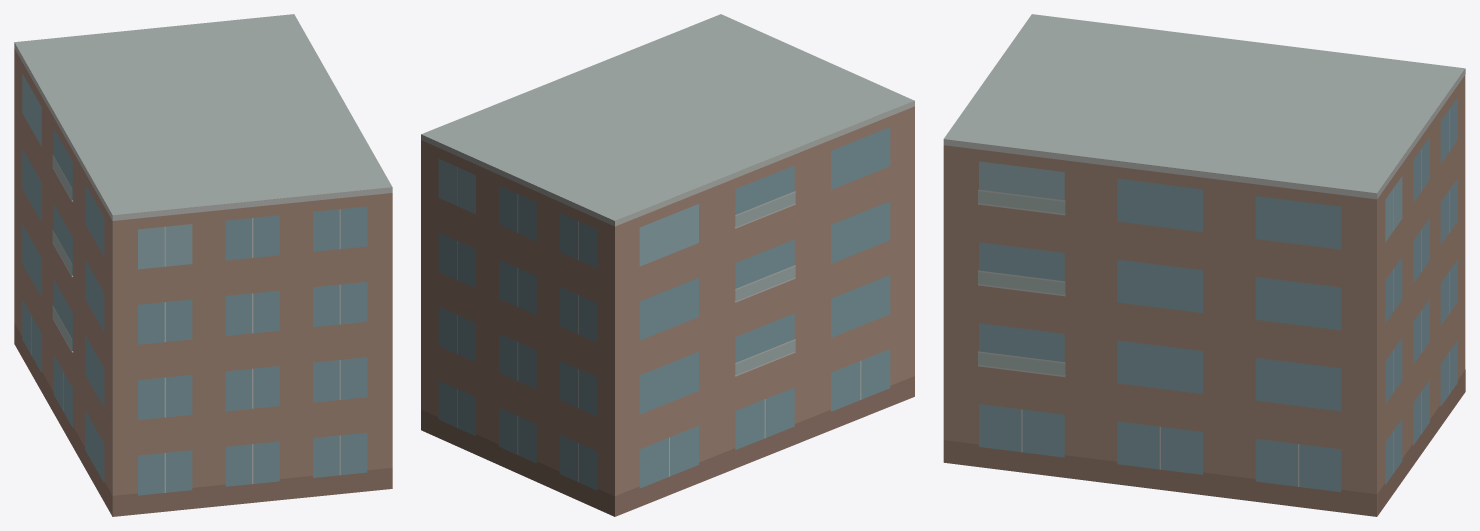
Rendered from survey-upis-32872736.glb.
3 views of the same model, side by side, from view 1: azimuth 30°, elevation 25°; view 2: azimuth 150°, elevation 25°; view 3: azimuth 270°, elevation 25° (orthographic). The views are drawn at different scales.
Parts seen in each view (by area): view 1: survey-upis-32872736.tmp; view 2: survey-upis-32872736.tmp; view 3: survey-upis-32872736.tmp.
Part boxes in pixels (box(x1,y1,x2,y2)): survey-upis-32872736.tmp: box(14, 14, 392, 516); survey-upis-32872736.tmp: box(421, 14, 914, 516); survey-upis-32872736.tmp: box(943, 14, 1465, 516).
Size of the model in its own units: 15.34 by 12.9 by 18.87.
